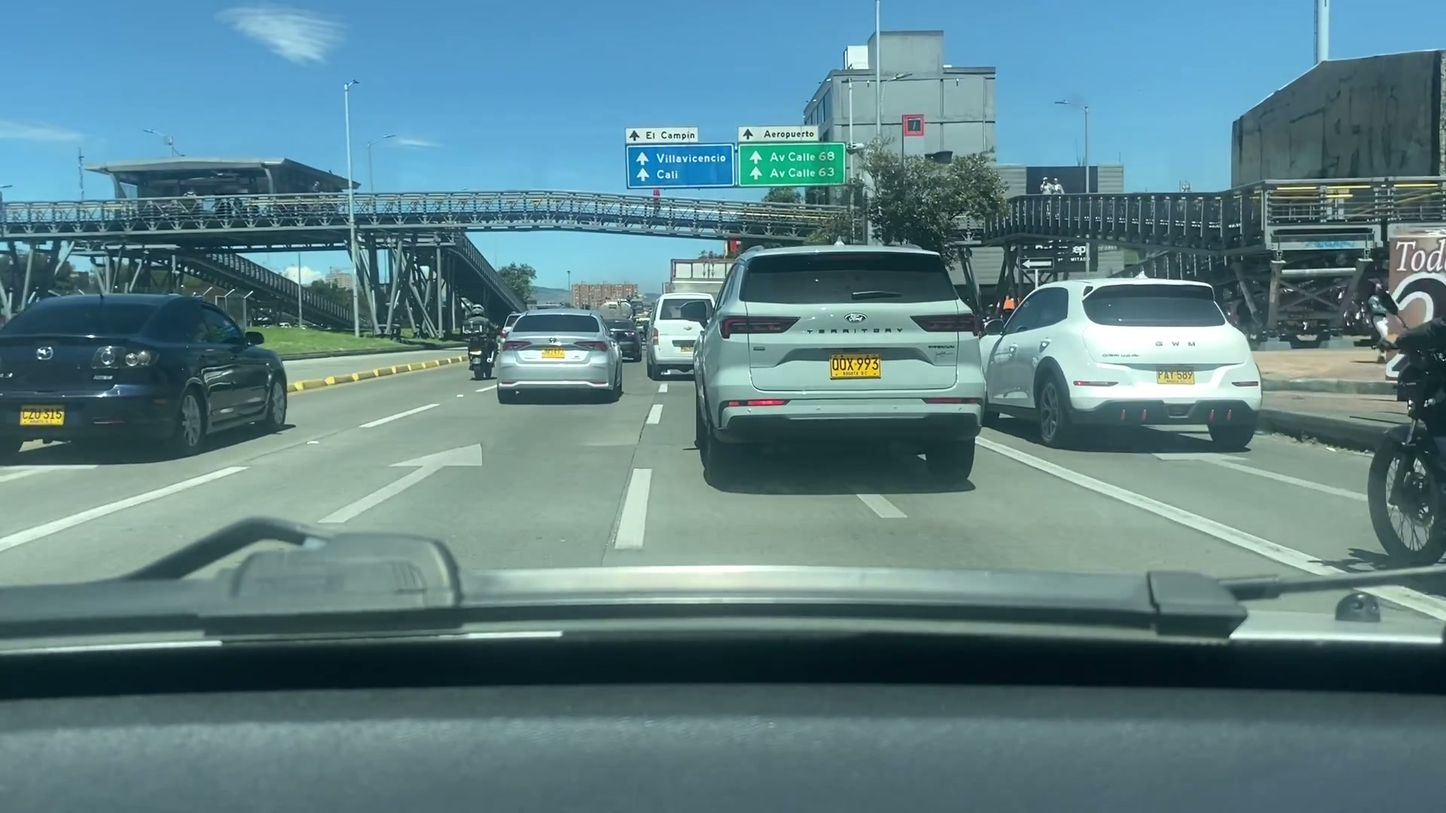bus: (644, 290, 719, 381)
car: (697, 244, 981, 480), (979, 273, 1264, 459), (2, 291, 297, 458), (495, 305, 624, 398), (593, 314, 644, 366)
motorcycle: (466, 337, 499, 381)
person: (465, 297, 499, 363)
